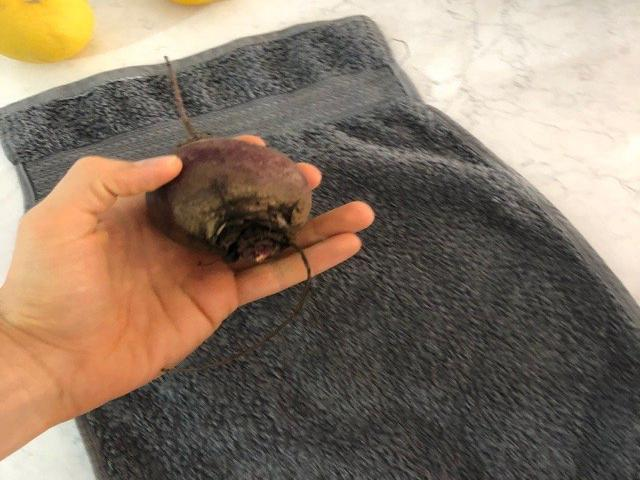beet: (145, 56, 309, 268)
